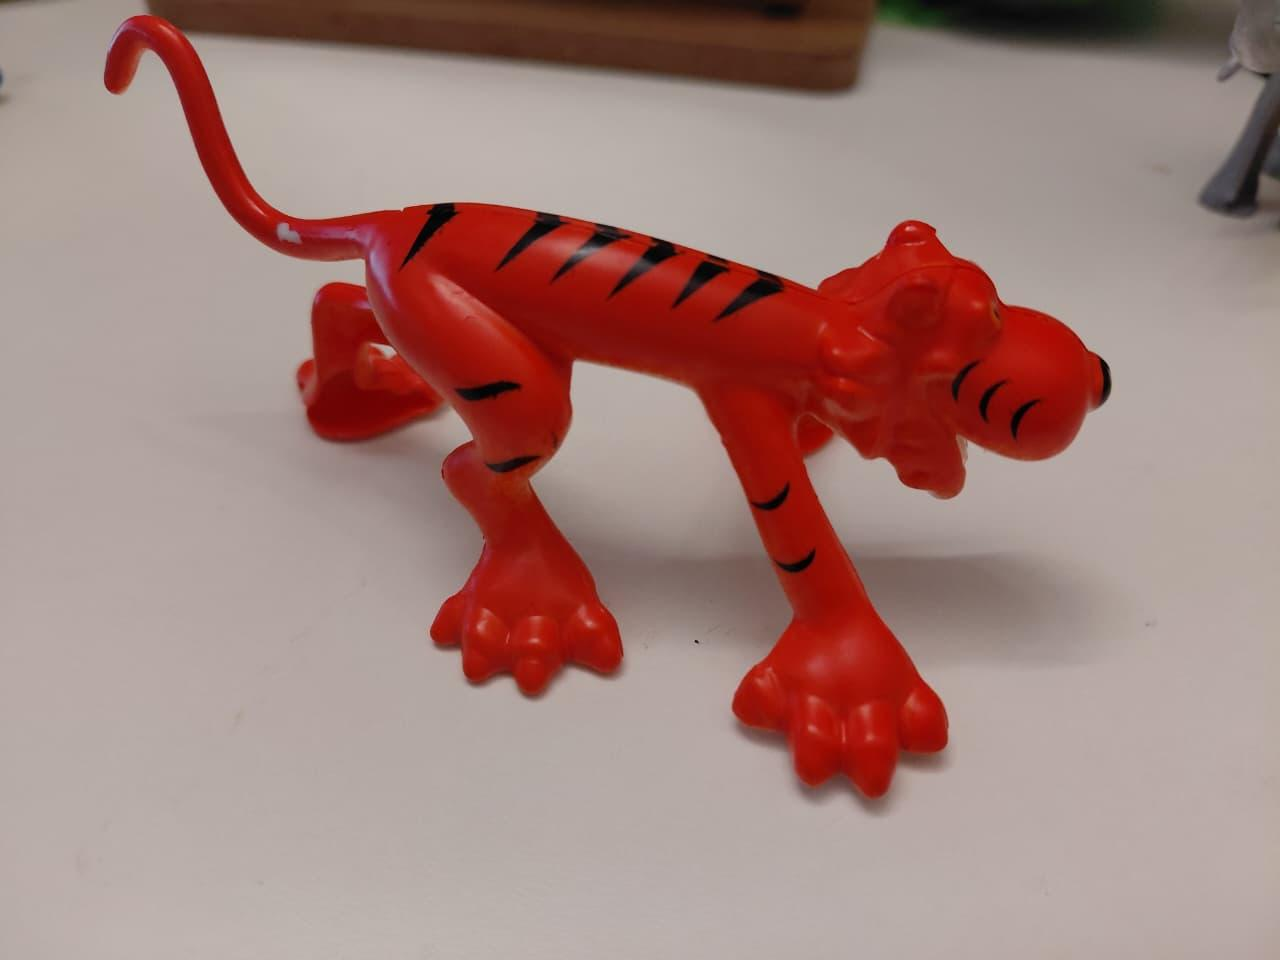tiger: (102, 12, 1141, 807)
